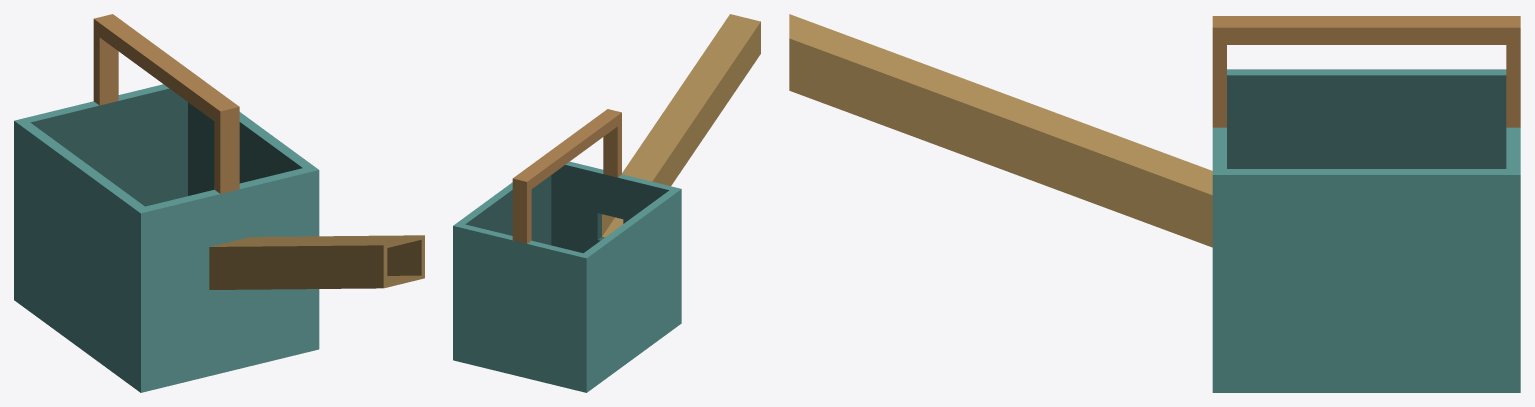
3 views of the same model, side by side, from view 1: azimuth 30°, elevation 25°; view 2: azimuth 150°, elevation 25°; view 3: azimuth 270°, elevation 25° (orthographic). The views are drawn at different scales.
Visible parts, largest first — view 1: WholeOpenBoxVesselWithSidePort, WholeInclinedSquareBoreSpout, WholeOverheadBridgeHandle; view 2: WholeOpenBoxVesselWithSidePort, WholeInclinedSquareBoreSpout, WholeOverheadBridgeHandle; view 3: WholeOpenBoxVesselWithSidePort, WholeInclinedSquareBoreSpout, WholeOverheadBridgeHandle.
Part boxes in pixels (left/top/right/bottom): WholeOpenBoxVesselWithSidePort: left=14, top=84, right=319, bottom=392; WholeInclinedSquareBoreSpout: left=209, top=235, right=424, bottom=289; WholeOverheadBridgeHandle: left=93, top=14, right=239, bottom=193; WholeOpenBoxVesselWithSidePort: left=453, top=161, right=681, bottom=392; WholeInclinedSquareBoreSpout: left=602, top=14, right=760, bottom=237; WholeOverheadBridgeHandle: left=512, top=109, right=621, bottom=243; WholeOpenBoxVesselWithSidePort: left=1212, top=69, right=1520, bottom=392; WholeInclinedSquareBoreSpout: left=789, top=14, right=1212, bottom=247; WholeOverheadBridgeHandle: left=1212, top=16, right=1520, bottom=127.
Bounding box in the file's own units: 0.26 × 0.365 × 0.76.
